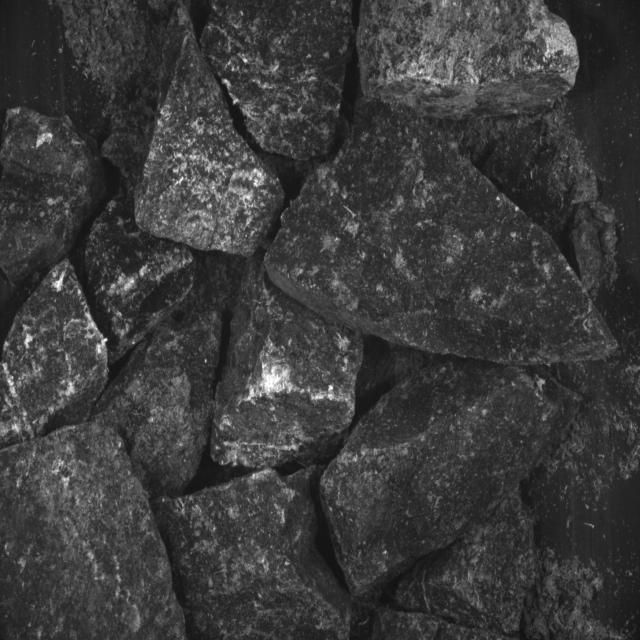Stones: (266, 102, 617, 365), (321, 360, 580, 596), (1, 423, 186, 640), (136, 4, 285, 257), (155, 469, 351, 640), (212, 257, 364, 469), (357, 1, 580, 120), (202, 1, 354, 161), (95, 313, 222, 498), (57, 1, 176, 192), (1, 260, 110, 449), (397, 493, 536, 635), (1, 109, 106, 283), (86, 199, 196, 365)
